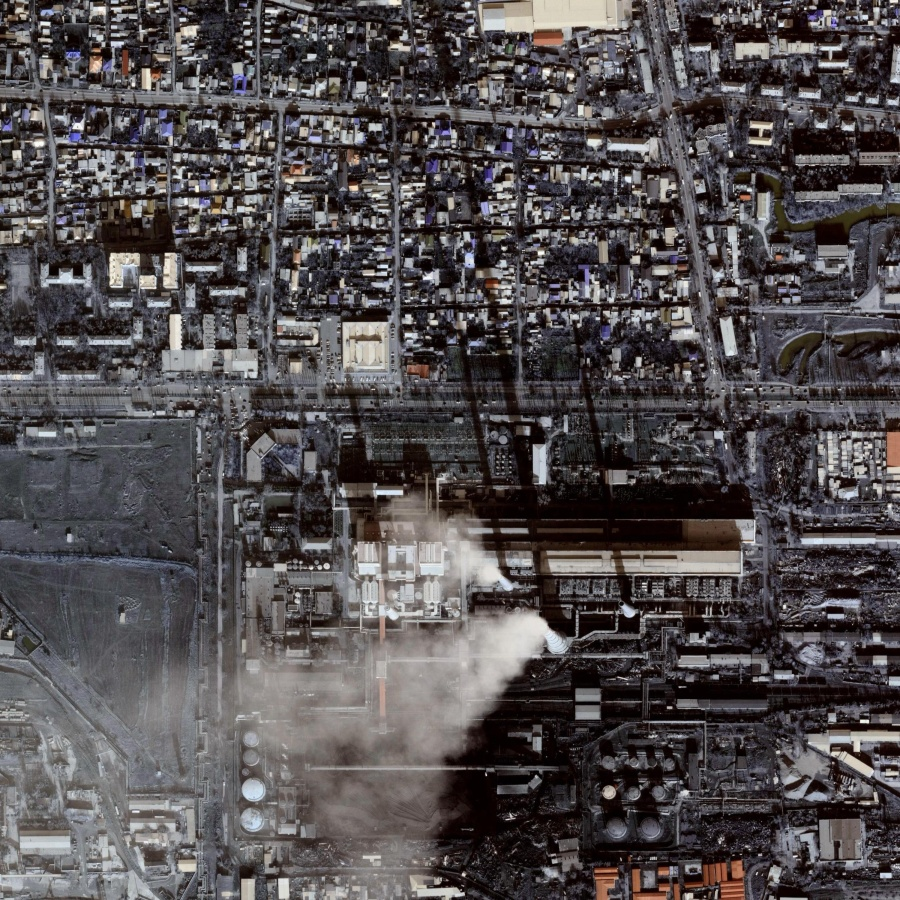PowerPlant: (245, 540, 749, 854)
